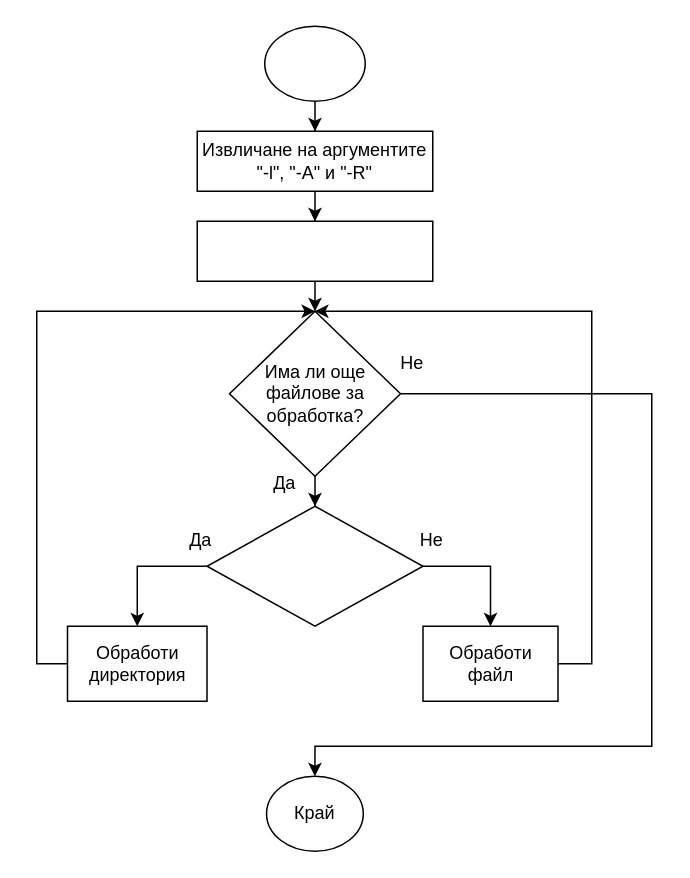
This 690x878 diagram has some shape labels left out. The shapes that lost their labels are listed below. From the top down, each one's centre as x and y in pixels, then its label:
At pixel 314 63: "Начало".
At pixel 314 250: "Извличане на останалите аргументи към програмата".
At pixel 314 565: "Директория ли е?".
